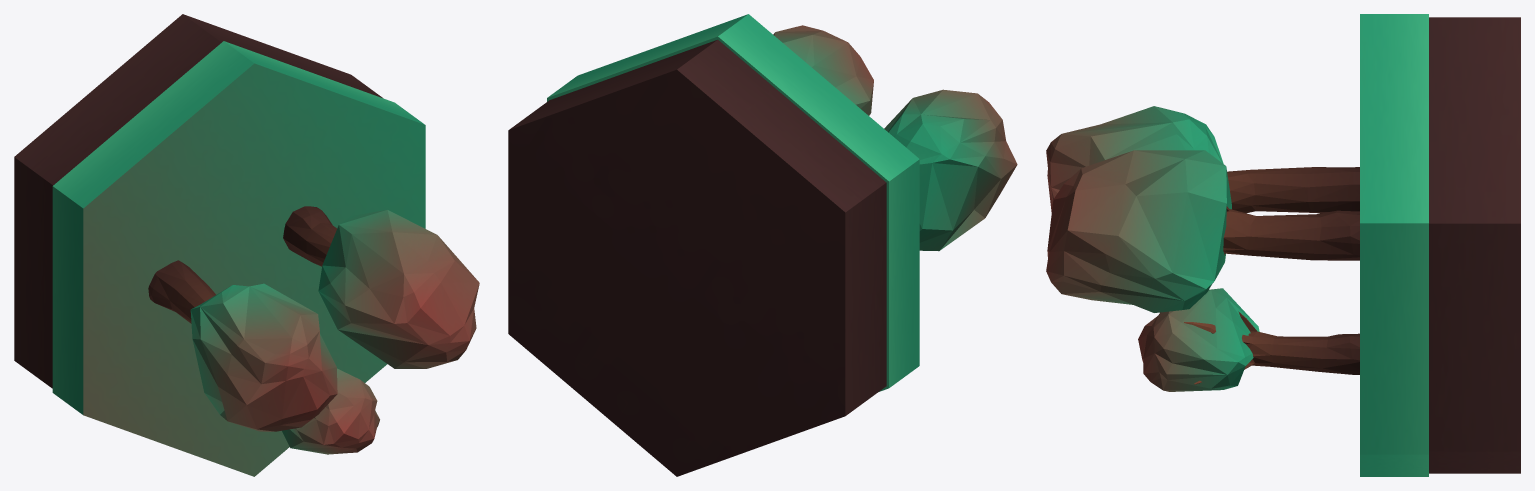
File: LAUBWALD_S_EX.fbx
3 views of the same model, side by side, from view 1: azimuth 30°, elevation 25°; view 2: azimuth 150°, elevation 25°; view 3: azimuth 270°, elevation 25° (orthographic). The views are drawn at different scales.
Parts seen in each view (by area): view 1: LAUBWALD_S_EX; view 2: LAUBWALD_S_EX; view 3: LAUBWALD_S_EX.
Boxes of the visible parts, x1,y1,x2,y2 form: LAUBWALD_S_EX: (14, 14, 479, 476); LAUBWALD_S_EX: (508, 14, 1017, 476); LAUBWALD_S_EX: (1046, 14, 1520, 476).
Size of the model in its own units: 172 by 199 by 185.
